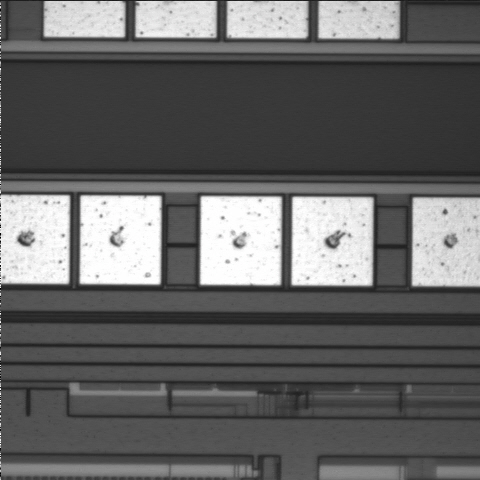pad: (200, 196, 282, 285), (80, 196, 161, 285), (292, 197, 373, 286)
